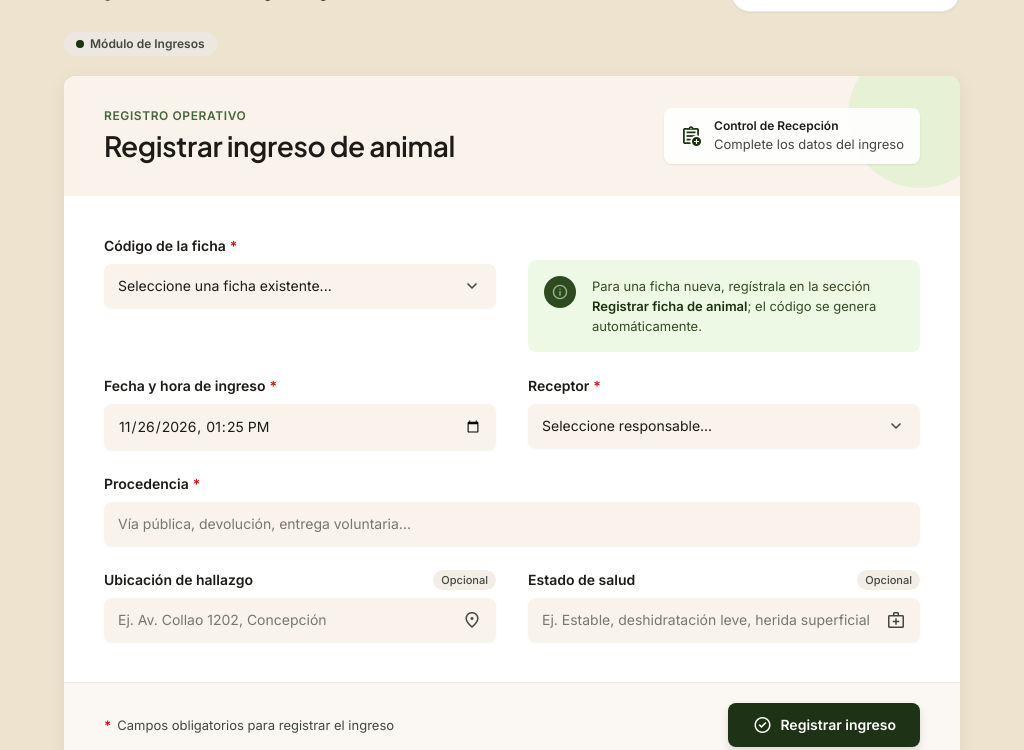
Test: RegistroIngresoPage › valida los campos obligatorios antes de registrar
(page scrolled)
Click the button "Registrar ingreso".
click(824, 725)  # box x1=728 y1=703 x2=920 y2=747
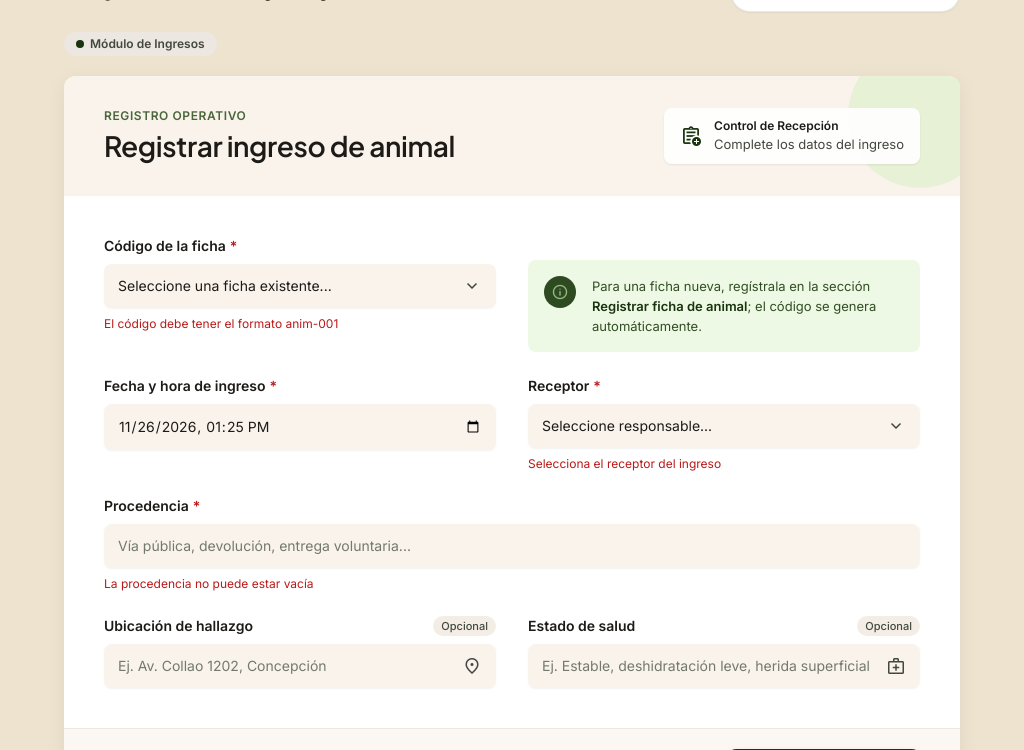
Result: the text "El código debe tener el formato anim-001" is shown at x1=104 y1=316 x2=338 y2=331
Result: the text "Selecciona el receptor del ingreso" is shown at x1=528 y1=456 x2=721 y2=471
Result: the text "La procedencia no puede estar vacía" is shown at x1=104 y1=576 x2=314 y2=591
